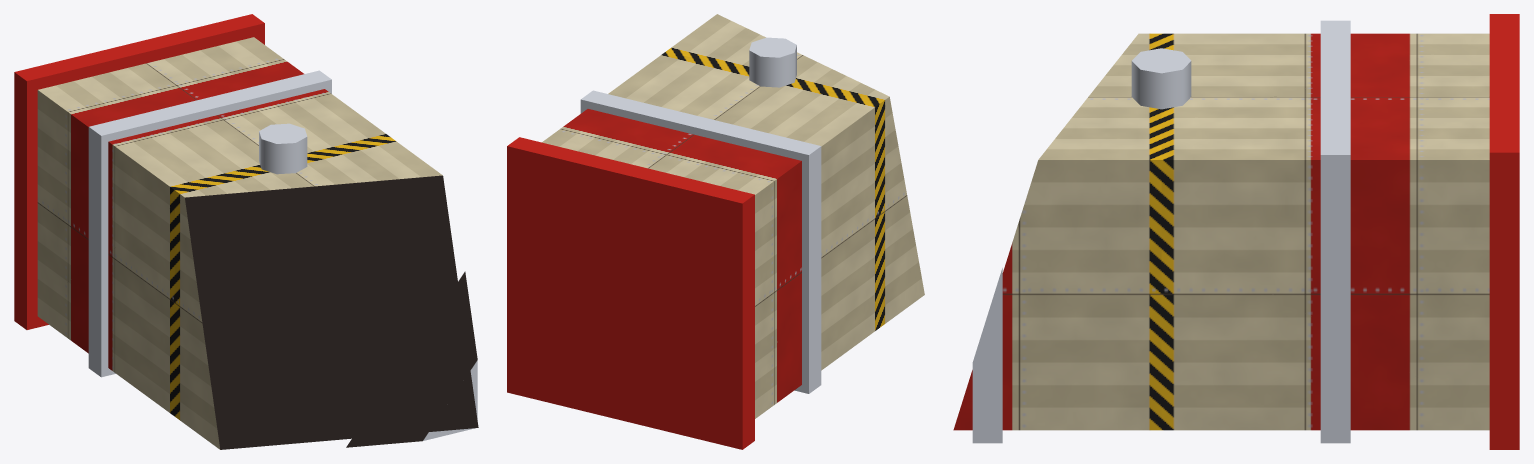
Rendered from supply_pod_debris1.obj.
3 renders of one model, left to right at view 1: azimuth 30°, elevation 25°; view 2: azimuth 150°, elevation 25°; view 3: azimuth 270°, elevation 25°, orthographic. The views are drawn at different scales.
Parts seen in each view (by area): view 1: container, rib, end_frame, latch; view 2: end_frame, container, rib, latch; view 3: container, rib, end_frame, latch.
Part boxes in pixels (bbox=[...]): container: bbox=[37, 37, 478, 449]; rib: bbox=[88, 70, 477, 447]; end_frame: bbox=[14, 14, 264, 329]; latch: bbox=[259, 123, 307, 174]; end_frame: bbox=[507, 137, 754, 449]; container: bbox=[542, 14, 924, 418]; rib: bbox=[580, 90, 821, 393]; latch: bbox=[749, 37, 796, 87]; container: bbox=[953, 33, 1489, 430]; rib: bbox=[972, 20, 1350, 443]; end_frame: bbox=[1489, 14, 1519, 449]; latch: bbox=[1131, 48, 1191, 109].
Size of the model in its own units: 6.6 by 7.1 by 11.39.
Materials: 4 (1 with a texture image).
